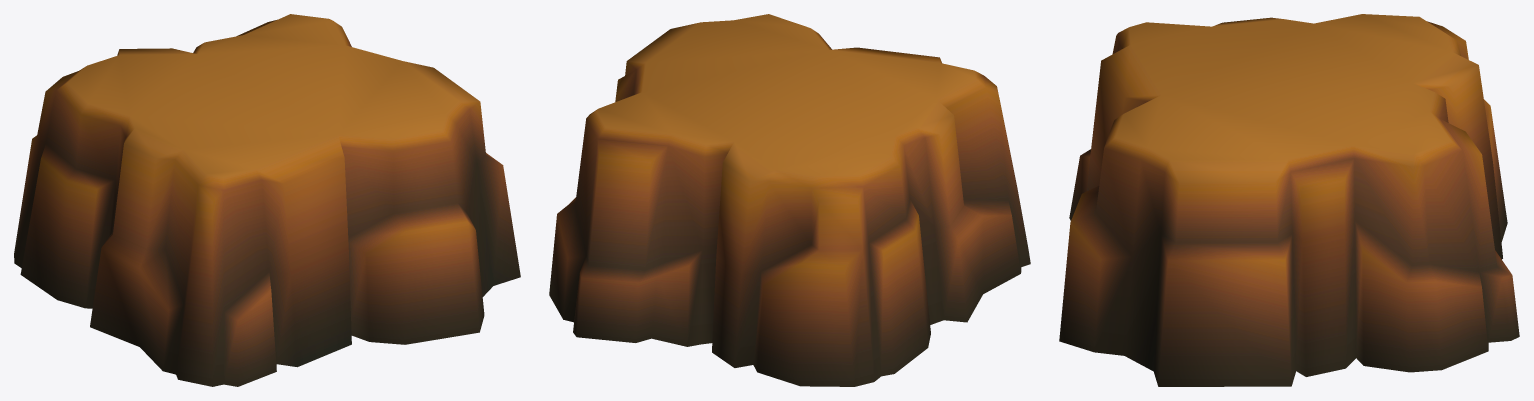
The model's file is m_Cliff04_B.fbx.
3 views of the same model, side by side, from view 1: azimuth 30°, elevation 25°; view 2: azimuth 150°, elevation 25°; view 3: azimuth 270°, elevation 25° (orthographic). The views are drawn at different scales.
Parts seen in each view (by area): view 1: m_Cliff04_B; view 2: m_Cliff04_B; view 3: m_Cliff04_B.
Boxes of the visible parts, x1,y1,x2,y2 form: m_Cliff04_B: (14, 14, 520, 386); m_Cliff04_B: (549, 14, 1030, 386); m_Cliff04_B: (1059, 14, 1519, 386).
Bounding box in the file's own units: 2113 × 1000 × 2110.
